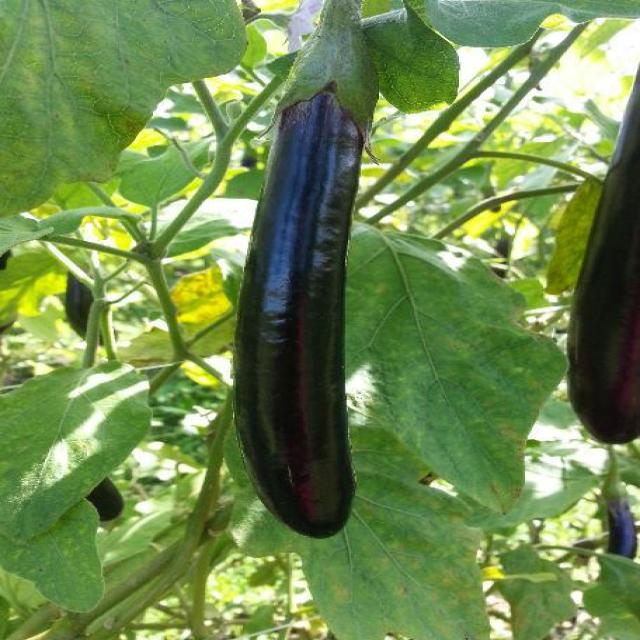eggplant: (232, 8, 374, 541), (568, 49, 639, 442)
